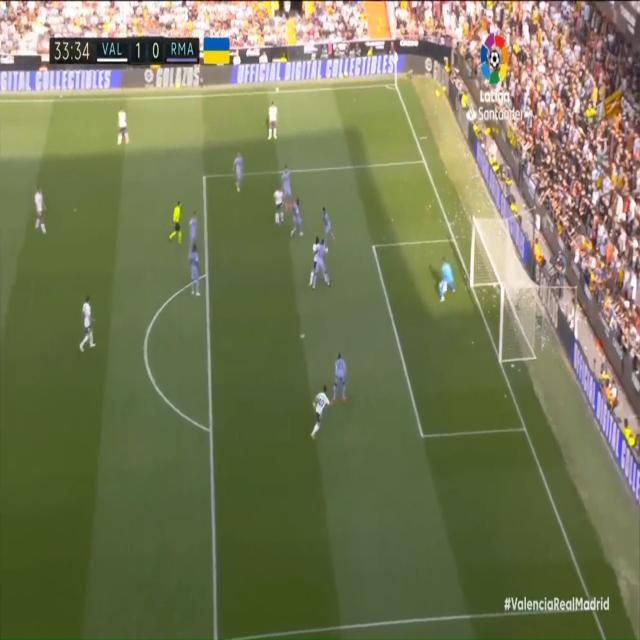goalkeeper: (428, 242, 462, 318)
player: (28, 190, 64, 248), (305, 385, 334, 440), (80, 291, 101, 364), (330, 348, 350, 419), (106, 108, 139, 151), (269, 90, 285, 163), (293, 195, 312, 249), (321, 203, 340, 255), (319, 241, 335, 301), (183, 205, 201, 257), (186, 242, 201, 303), (272, 187, 288, 236), (229, 150, 244, 199), (311, 237, 322, 292), (282, 164, 294, 213)
referee: (168, 190, 184, 250)
